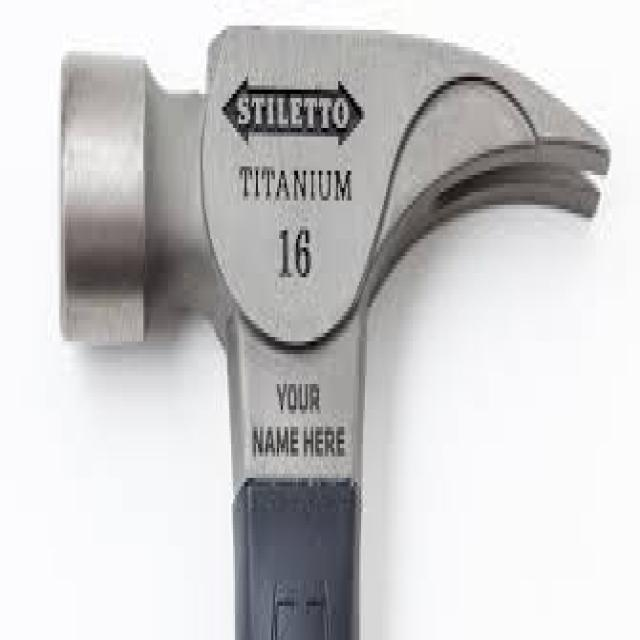Palu: (46, 22, 620, 640)
